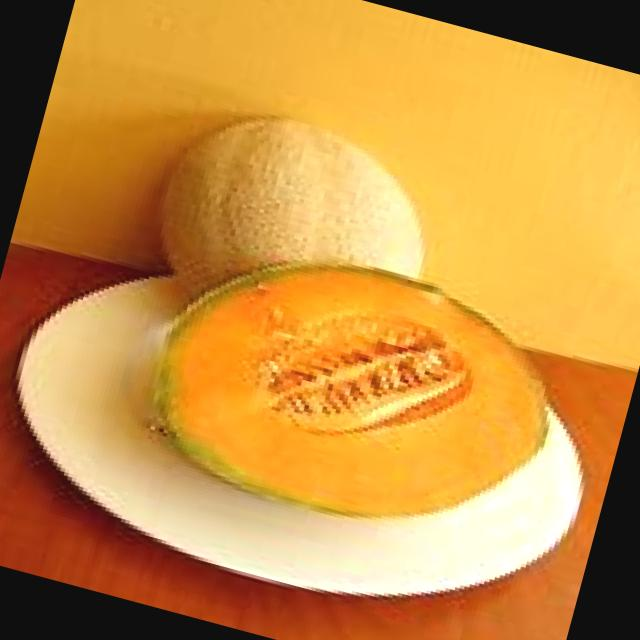cantaloupe: (127, 220, 573, 567), (141, 87, 457, 336)
